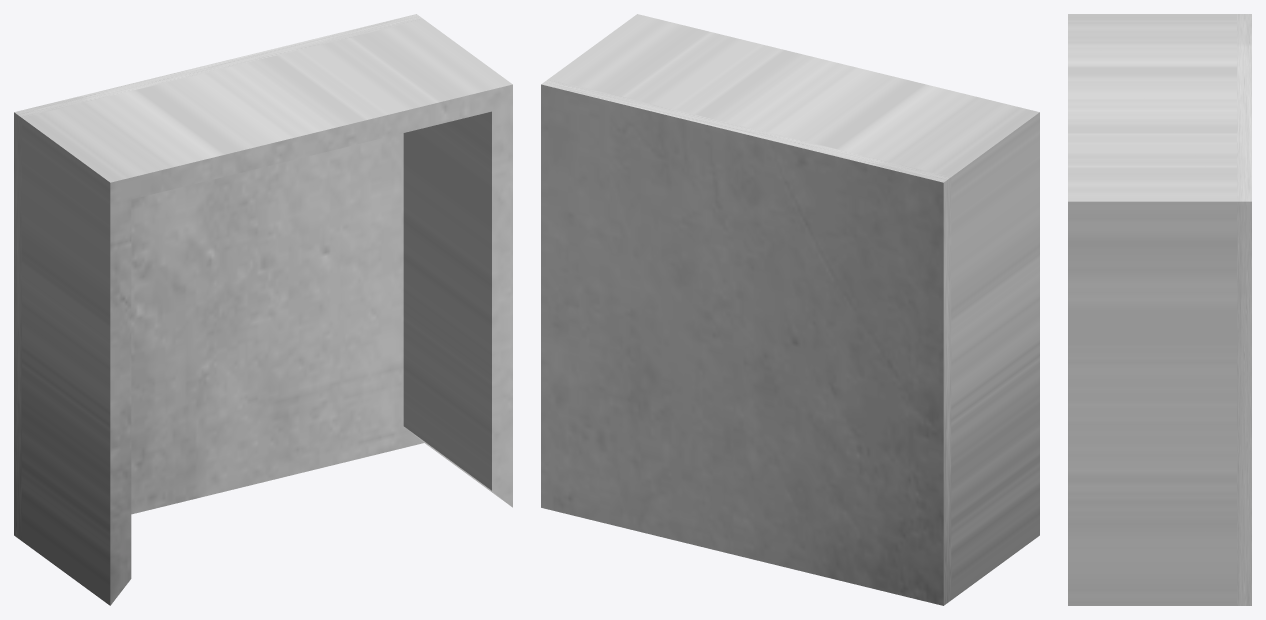
The model's file is pareti.obj.
3 views of the same model, side by side, from view 1: azimuth 30°, elevation 25°; view 2: azimuth 150°, elevation 25°; view 3: azimuth 270°, elevation 25° (orthographic). The views are drawn at different scales.
Visible parts, largest first — view 1: Cube; view 2: Cube; view 3: Cube.
Boxes of the visible parts, x1,y1,x2,y2 form: Cube: [14, 14, 512, 605]; Cube: [541, 14, 1039, 605]; Cube: [1068, 14, 1251, 605].
Bounding box in the file's own units: 28.89 × 29.03 × 11.97.
